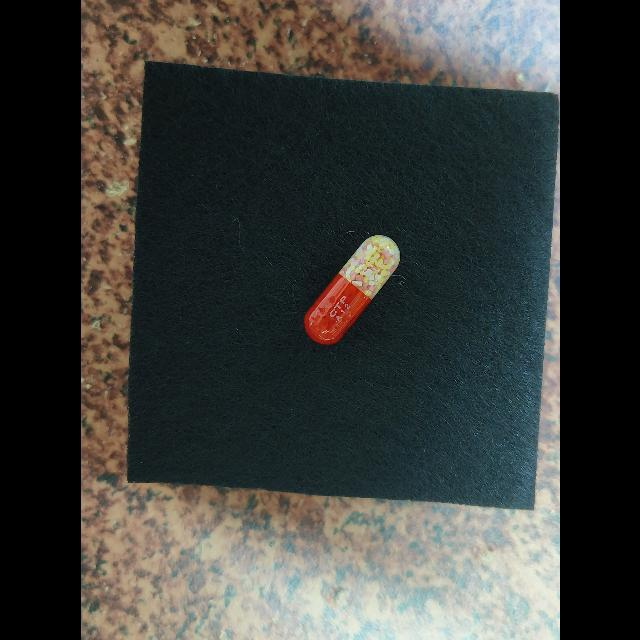Intact Capsule: (303, 235, 400, 345)
